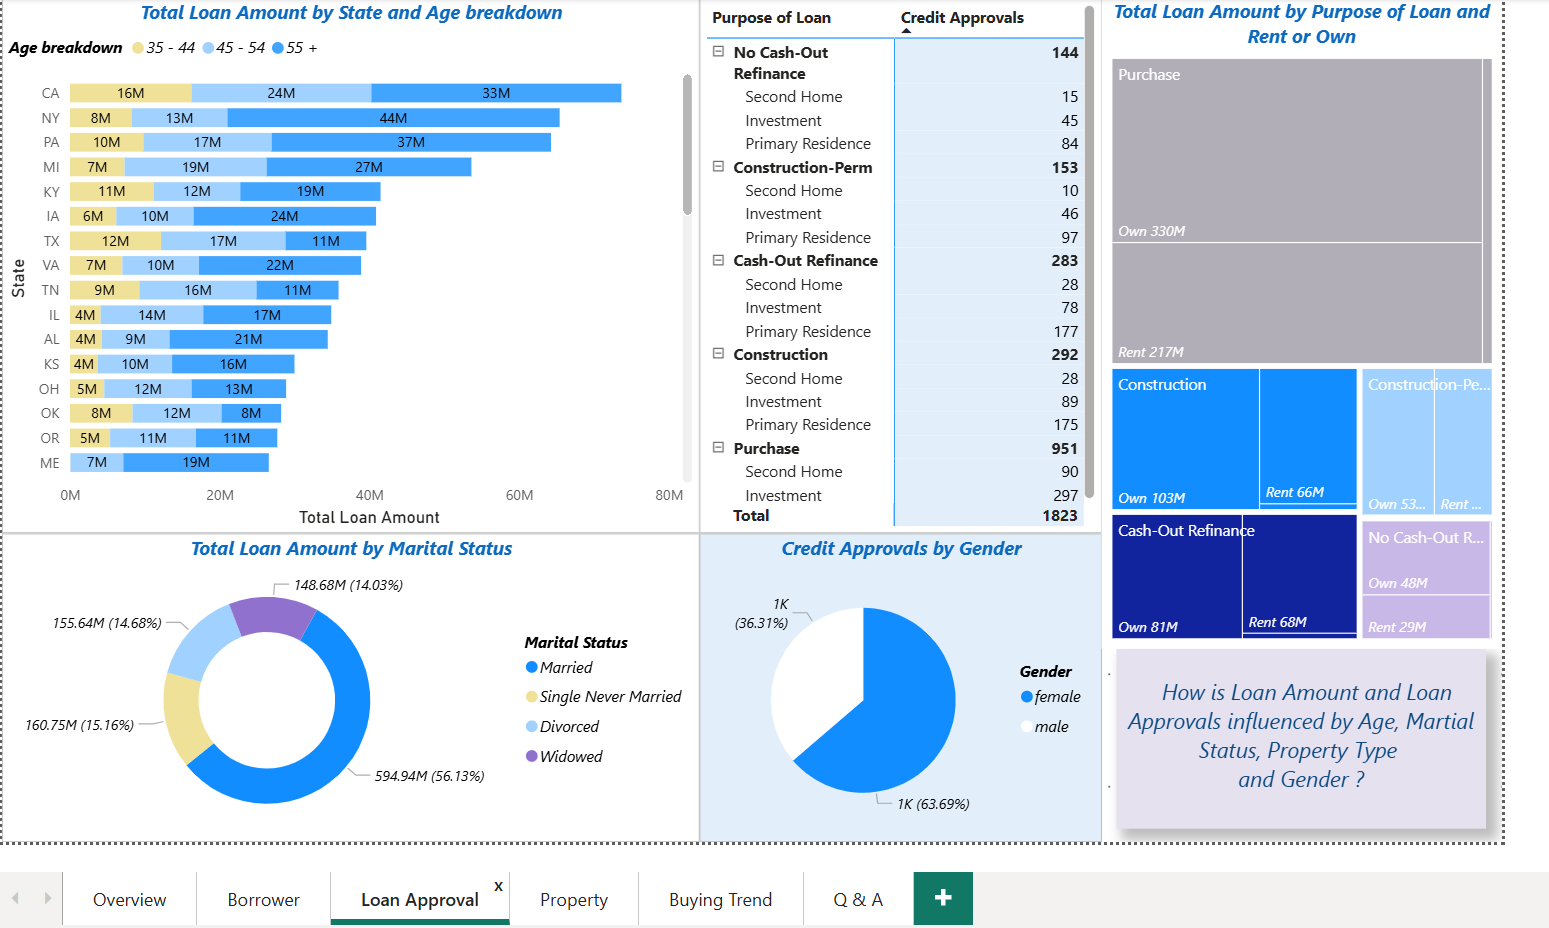

The dashboard page shown, as its layout file describes it:
{"tool":"powerbi","page":{"name":"Loan Approval","canvas":[1280,720],"ordinal":2},"visuals":[{"type":"barChart","fields":{"Category":["Borrower.State"],"Y":["Measure Table.Total Loan Amount"],"Series":["Borrower.Age breakdown"]},"box":[0,0,595,456.7],"z":0},{"type":"donutChart","fields":{"Y":["Measure Table.Total Loan Amount"],"Category":["Borrower.Marital Status"]},"box":[0,456.7,595,263.3],"z":1000},{"type":"pivotTable","fields":{"Rows":["Loan.Purpose of Loan","Loan.Property Usage"],"Values":["Measure Table.Count Credit Approval"]},"box":[595,0,343.3,456.7],"z":2000},{"type":"pieChart","title":"Credit Approvals by Gender","fields":{"Y":["Measure Table.Count Credit Approval"],"Category":["Borrower.Sex"]},"box":[595,456.7,343.3,263.3],"z":3000},{"type":"textbox","box":[951.7,555,315,153.3],"z":4000},{"type":"treemap","fields":{"Group":["Loan.Purpose of Loan"],"Values":["Measure Table.Total Loan Amount"],"Details":["Loan.Rent or Own"]},"box":[938.3,0,341.7,555],"z":5000}]}

Visuals, with their boxes on the page's 1280x720 design canvas (x1, y1, x2, y2). These are canvas units, not pixel positions in the 1549x928 screenshot, which may show the page scaled, cropped or inside an application window:
barChart - Borrower.State x Measure Table.Total Loan Amount: BBox(0, 0, 595, 457)
donutChart - Measure Table.Total Loan Amount x Borrower.Marital Status: BBox(0, 457, 595, 720)
pivotTable - Loan.Purpose of Loan x Loan.Property Usage: BBox(595, 0, 938, 457)
"Credit Approvals by Gender" pieChart: BBox(595, 457, 938, 720)
textbox: BBox(952, 555, 1267, 708)
treemap - Loan.Purpose of Loan x Measure Table.Total Loan Amount: BBox(938, 0, 1280, 555)
